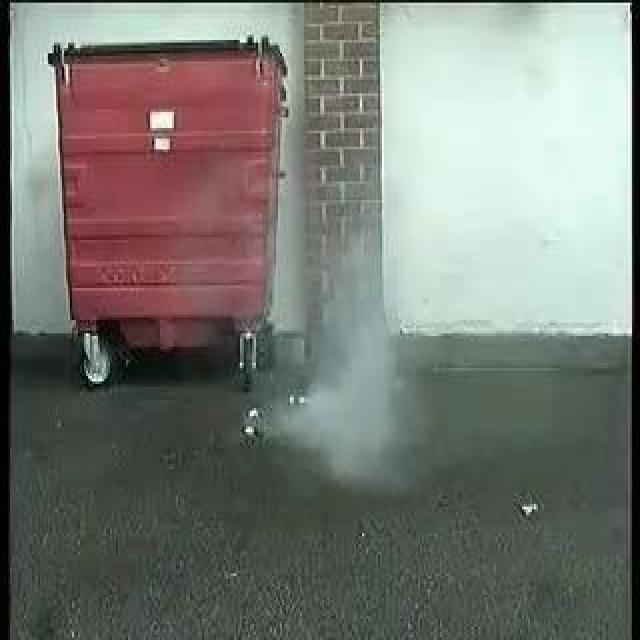Smoke: (280, 276, 384, 473)
